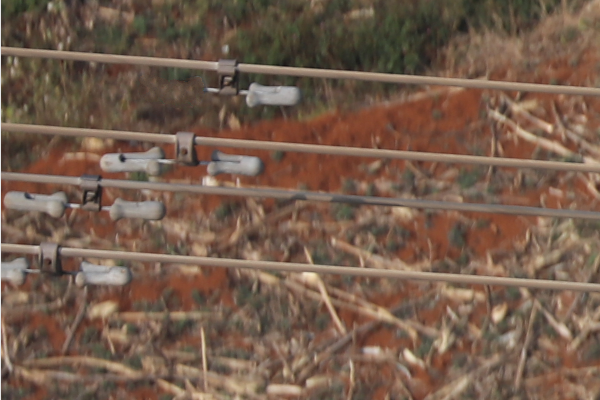damper: (4, 170, 166, 222), (96, 128, 261, 179)
damper_defect: (196, 52, 302, 111)
